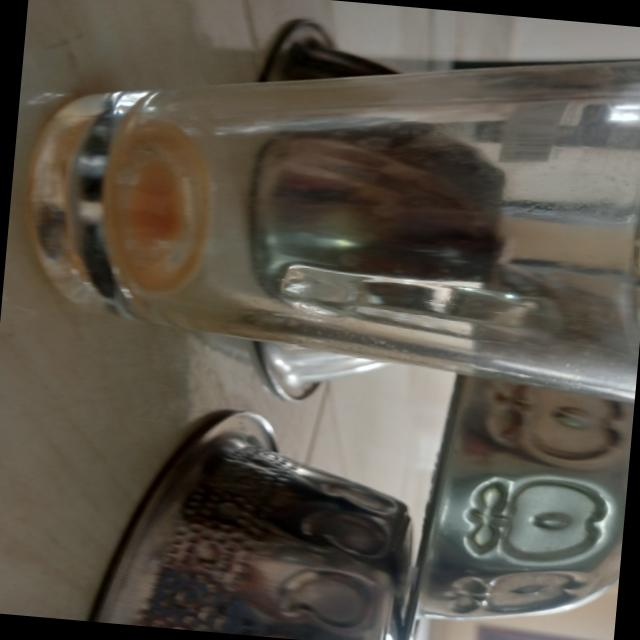glass-VX4N: (35, 9, 640, 403)
